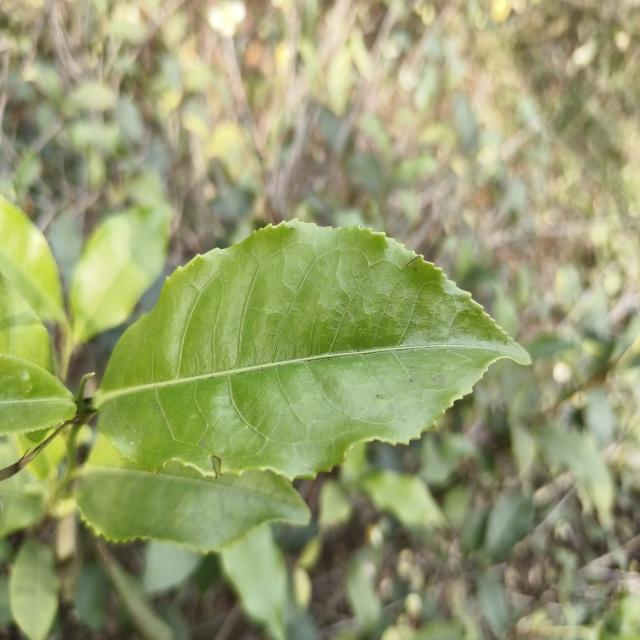Leaf: (93, 221, 530, 479), (75, 434, 310, 552), (71, 204, 170, 343), (0, 195, 66, 324), (220, 525, 287, 640), (542, 427, 613, 528), (0, 354, 77, 435), (9, 540, 59, 640), (361, 469, 444, 526), (484, 491, 534, 560), (143, 541, 201, 594), (478, 576, 509, 637), (319, 478, 352, 530)
